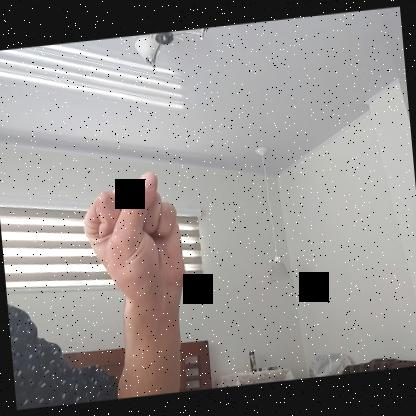S: (79, 170, 190, 318)
